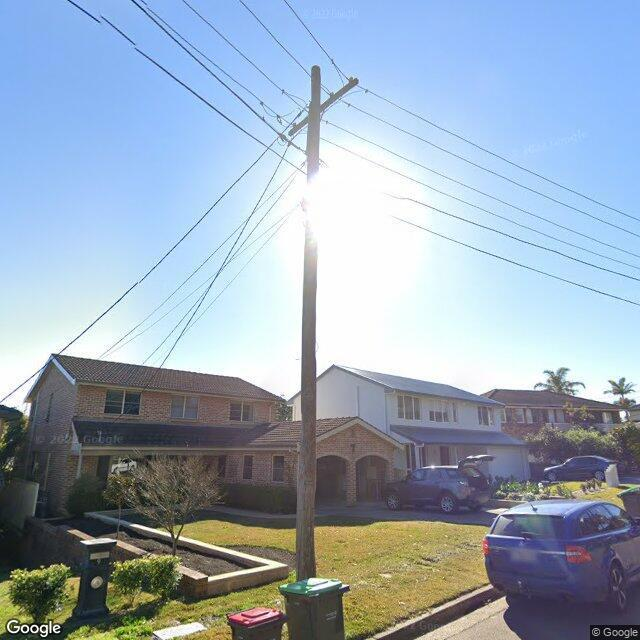crossarm: (287, 78, 359, 136)
timber-pole: (295, 65, 322, 581)
